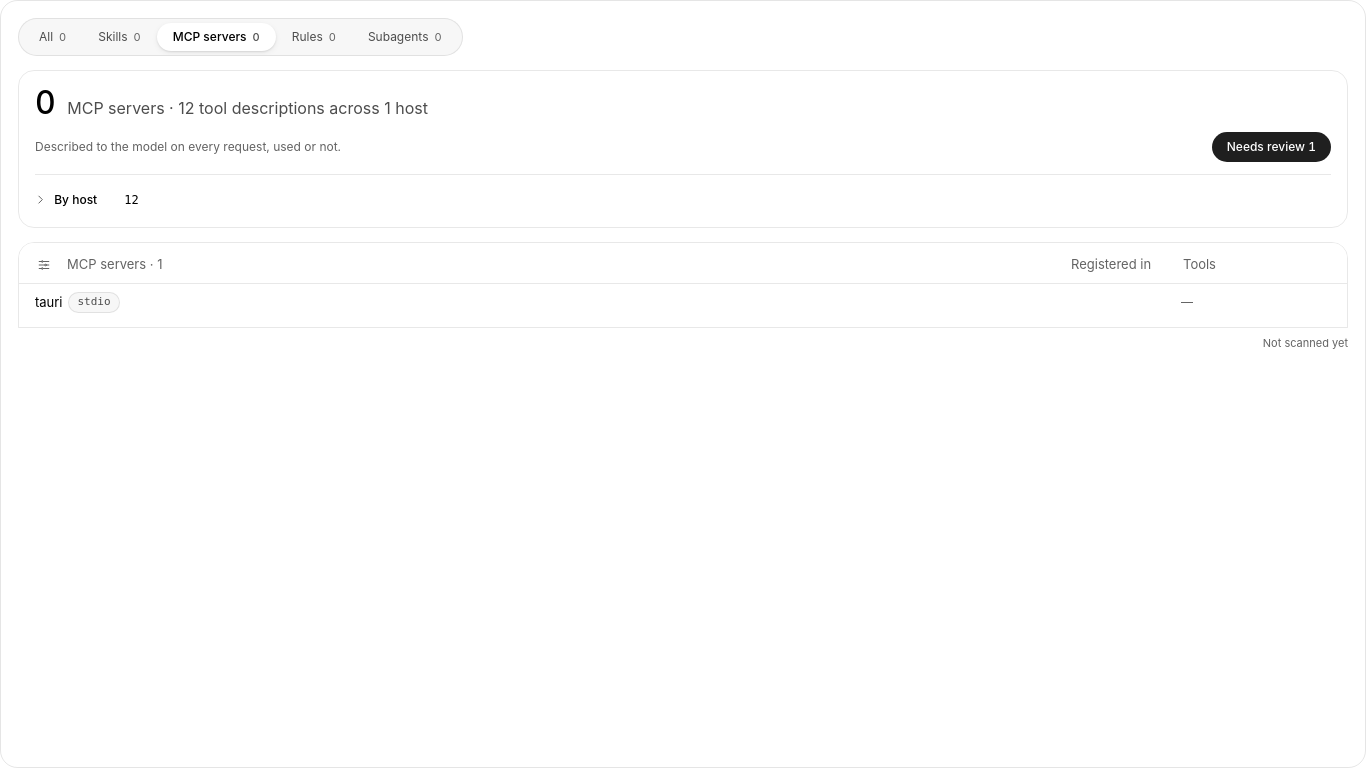
Test: servers running with no config behind them › many processes of one launch are one line, with a count and an example pid
Click the text "Needs review 1": click(1271, 147) [1227,138,1316,156]
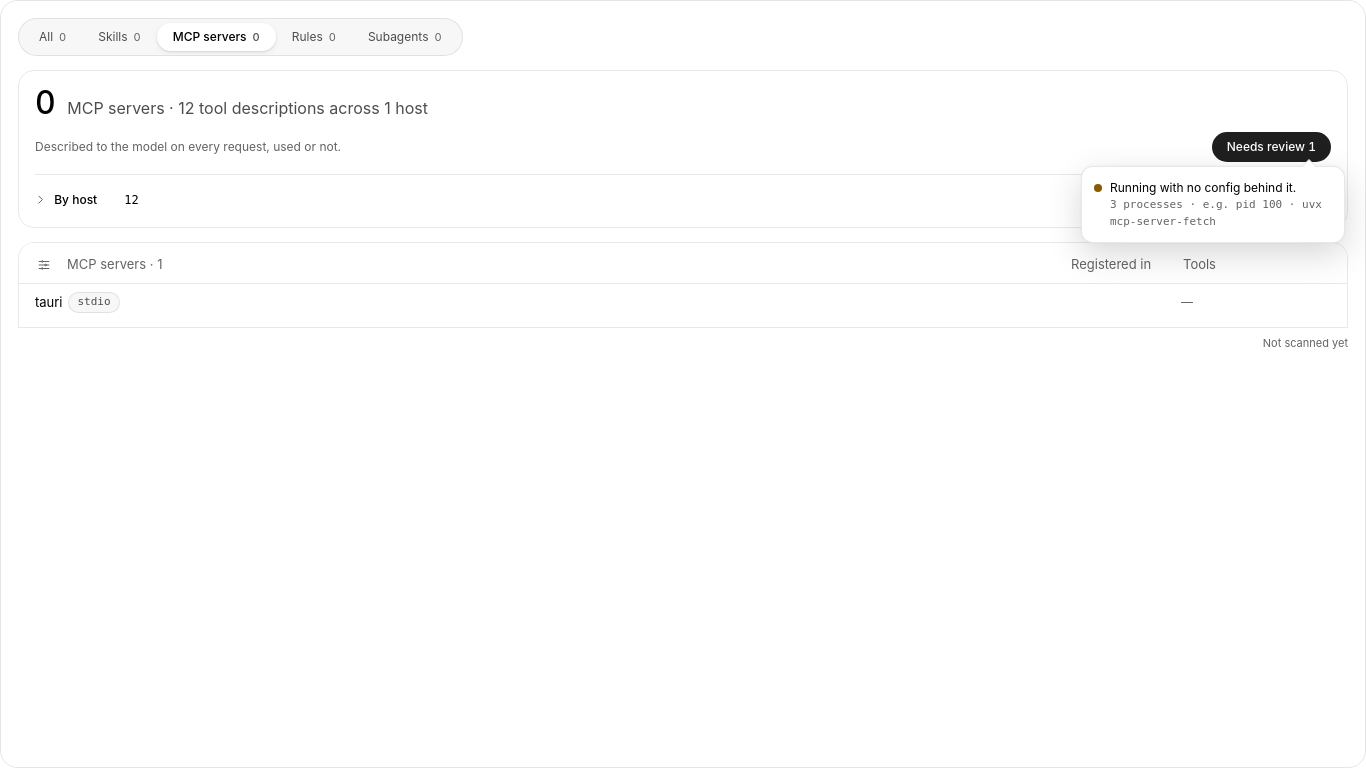
Expected: the list item with test id "finding-popover-line" shows "3 processes · e.g. pid 100 · uvx mcp-server-fetch", [1110,198,1322,228]
